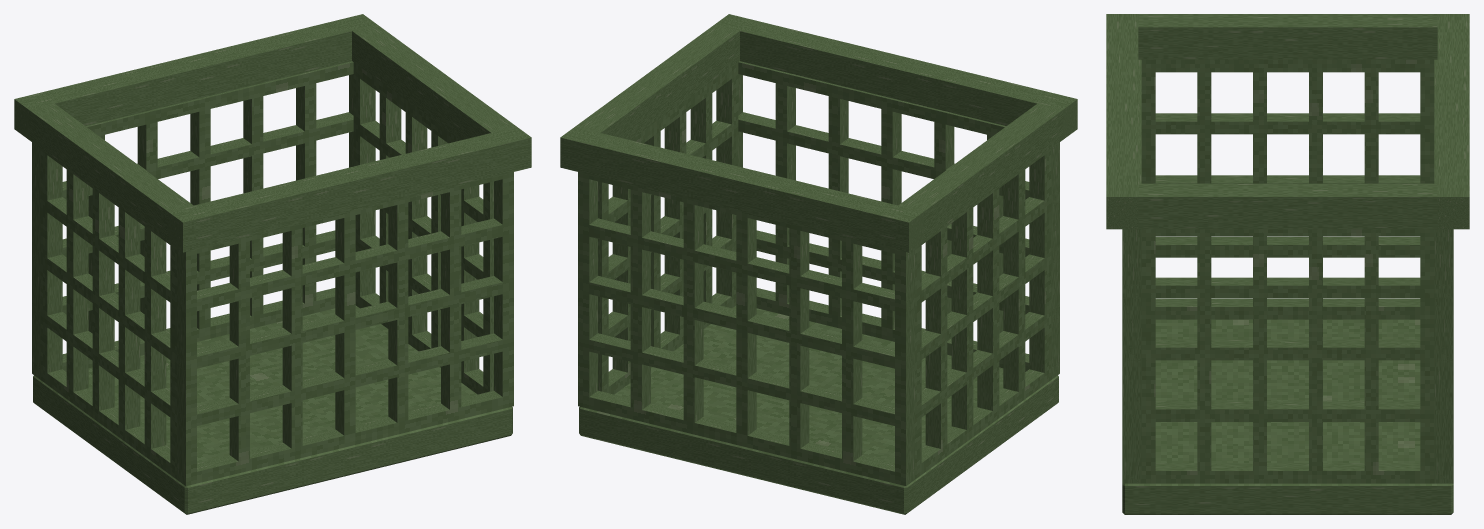
Rendered from perforated_supply_crate.glb.
3 renders of one model, left to right at view 1: azimuth 30°, elevation 25°; view 2: azimuth 150°, elevation 25°; view 3: azimuth 270°, elevation 25°, orthographic. The views are drawn at different scales.
Visible parts, largest first — view 1: perforated_supply_crate; view 2: perforated_supply_crate; view 3: perforated_supply_crate.
Boxes of the visible parts, x1,y1,x2,y2 form: perforated_supply_crate: (14, 14, 531, 514); perforated_supply_crate: (560, 14, 1077, 514); perforated_supply_crate: (1106, 14, 1469, 514).
Bounding box in the file's own units: 0.34 × 0.281 × 0.285.
1 material, 1 textured.
